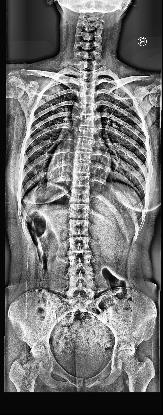Vertebrae: (68, 254, 94, 274), (68, 273, 96, 291), (68, 204, 92, 220), (68, 238, 92, 254), (70, 189, 93, 205), (68, 220, 89, 236), (71, 176, 91, 190), (76, 138, 94, 152), (72, 163, 90, 177), (74, 151, 94, 163), (79, 115, 95, 128), (79, 104, 96, 116), (80, 60, 96, 72), (78, 127, 94, 139), (79, 82, 97, 92), (78, 94, 96, 104), (80, 71, 96, 81)
